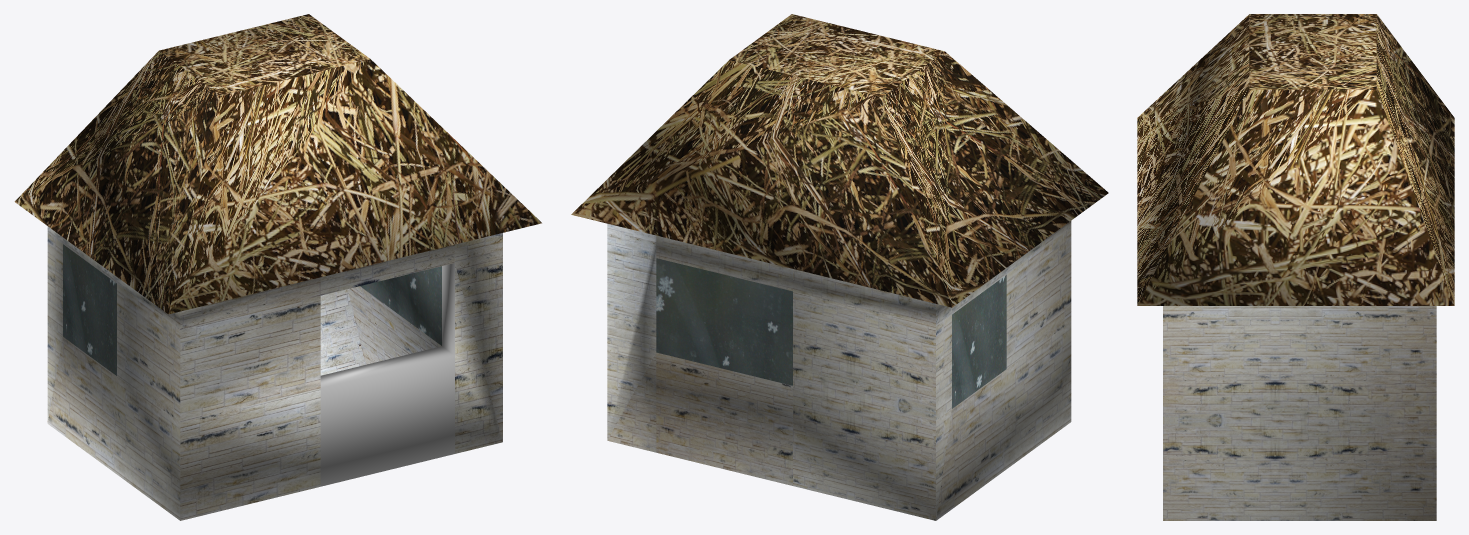
File: bakery.fbx
3 renders of one model, left to right at view 1: azimuth 30°, elevation 25°; view 2: azimuth 150°, elevation 25°; view 3: azimuth 270°, elevation 25°, orthographic. The views are drawn at different scales.
Parts seen in each view (by area): view 1: Mesh; view 2: Mesh; view 3: Mesh.
Boxes of the visible parts, box(x1,y1,x2,y2) form: Mesh: box(14, 14, 541, 520); Mesh: box(571, 14, 1108, 520); Mesh: box(1137, 14, 1454, 520).
Bounding box in the file's own units: 13.24 × 12.67 × 9.44.
